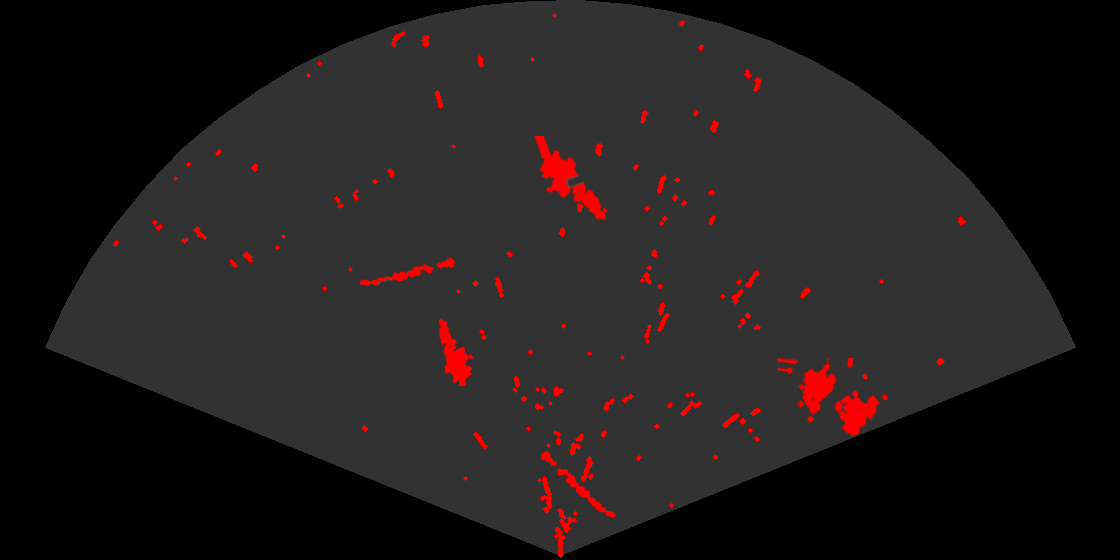cage: (777, 358, 881, 438)
chain: (539, 449, 617, 520), (358, 256, 458, 288)
frogman: (533, 136, 608, 222), (437, 317, 475, 386)
